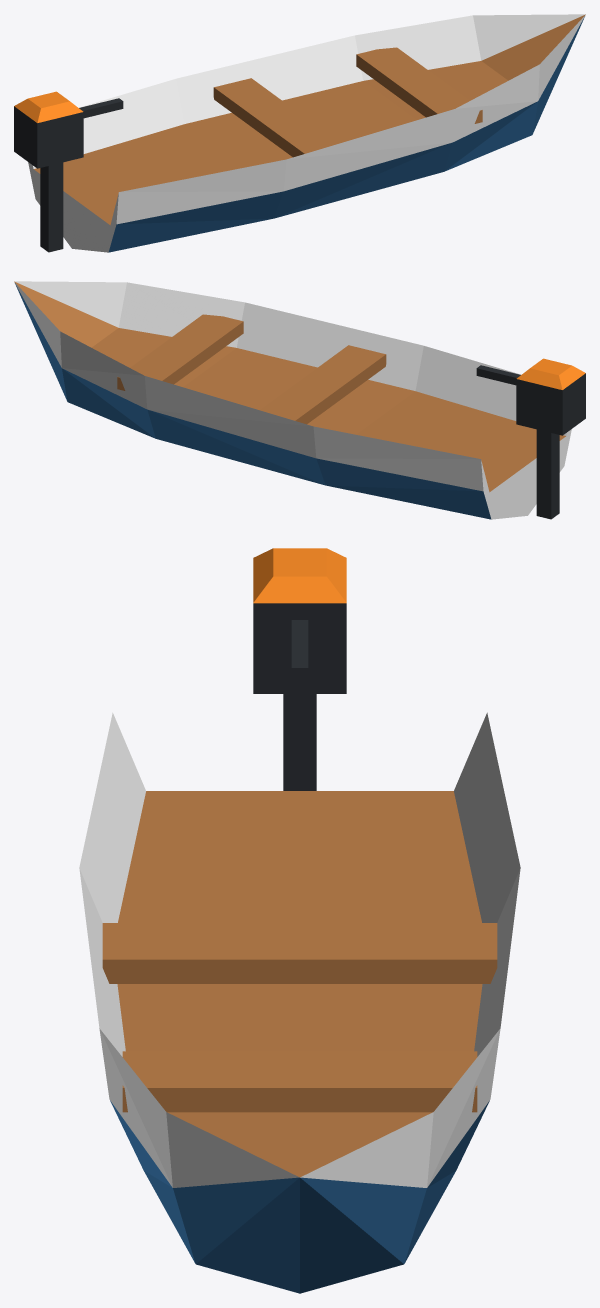
Rendered from boat_small.glb.
3 views of the same model, one above another, from view 1: azimuth 30°, elevation 25°; view 2: azimuth 150°, elevation 25°; view 3: azimuth 270°, elevation 25° (orthographic). The views are drawn at different scales.
Visible parts, largest first — view 1: boat_small; view 2: boat_small; view 3: boat_small.
Boxes of the visible parts, bbox=[...] form: boat_small: bbox=[14, 14, 585, 252]; boat_small: bbox=[14, 281, 585, 519]; boat_small: bbox=[79, 548, 520, 1293].
Bounding box in the file's own units: 0.387 × 0.108 × 0.132.
